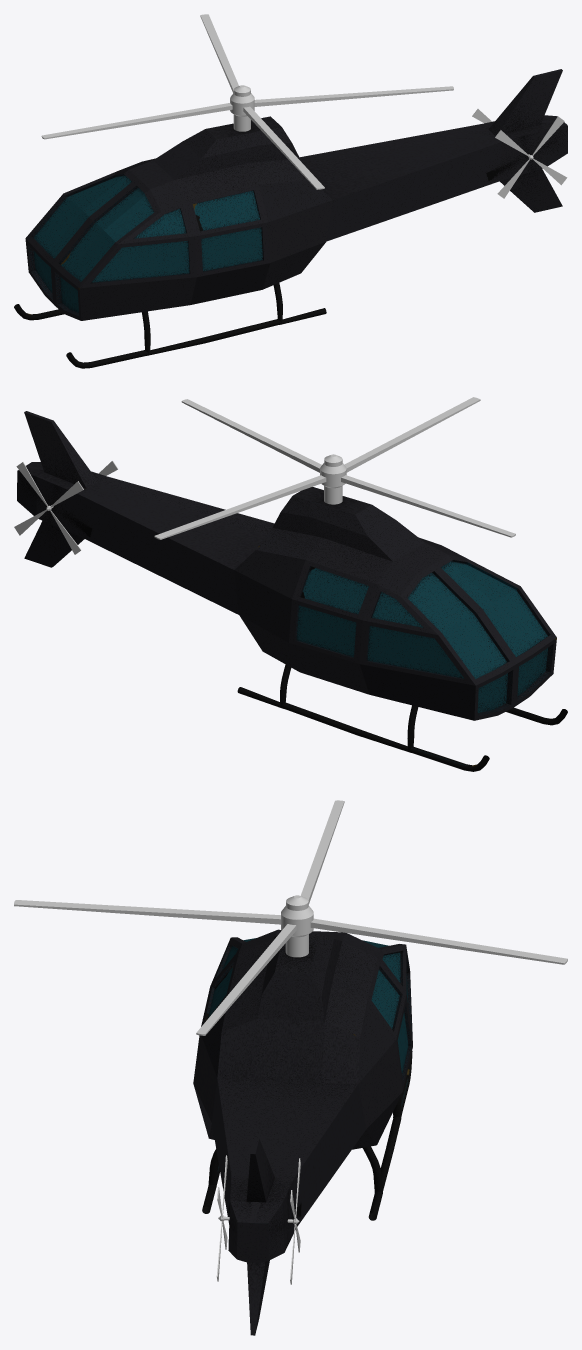
Rendered from anim_000242.obj.
3 views of the same model, one above another, from view 1: azimuth 30°, elevation 25°; view 2: azimuth 150°, elevation 25°; view 3: azimuth 270°, elevation 25° (orthographic). The views are drawn at different scales.
Visible parts, largest first — view 1: Helicopter.007_Cylinder.008, Helicopter.001_Cylinder.001, Helicopter.003_Cylinder.004; view 2: Helicopter.007_Cylinder.008, Helicopter.001_Cylinder.001, Helicopter.004_Cylinder.005; view 3: Helicopter.007_Cylinder.008, Helicopter.001_Cylinder.001.
Part boxes in pixels (box(x1,y1,x2,y2)): Helicopter.007_Cylinder.008: box(14, 69, 567, 368); Helicopter.001_Cylinder.001: box(41, 14, 453, 189); Helicopter.003_Cylinder.004: box(495, 116, 567, 198); Helicopter.007_Cylinder.008: box(17, 411, 567, 771); Helicopter.001_Cylinder.001: box(154, 397, 515, 539); Helicopter.004_Cylinder.005: box(14, 462, 83, 554); Helicopter.007_Cylinder.008: box(193, 929, 412, 1335); Helicopter.001_Cylinder.001: box(14, 800, 567, 1035).
Bounding box in the file's own units: 7.55 × 3.21 × 5.42.
